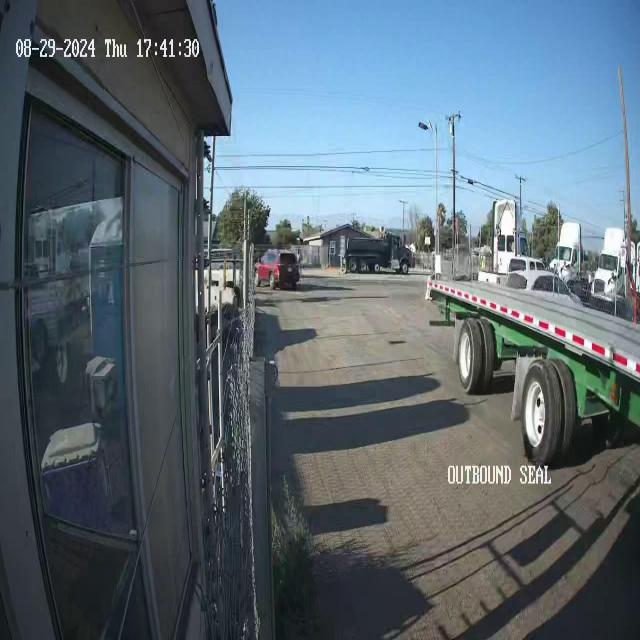TRUCK_IN: (425, 266, 640, 468)
